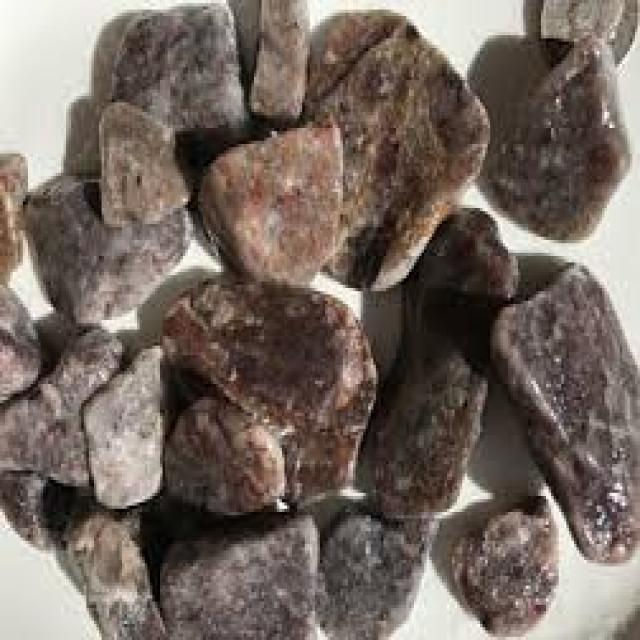Metamorphic: (2, 9, 635, 634)
